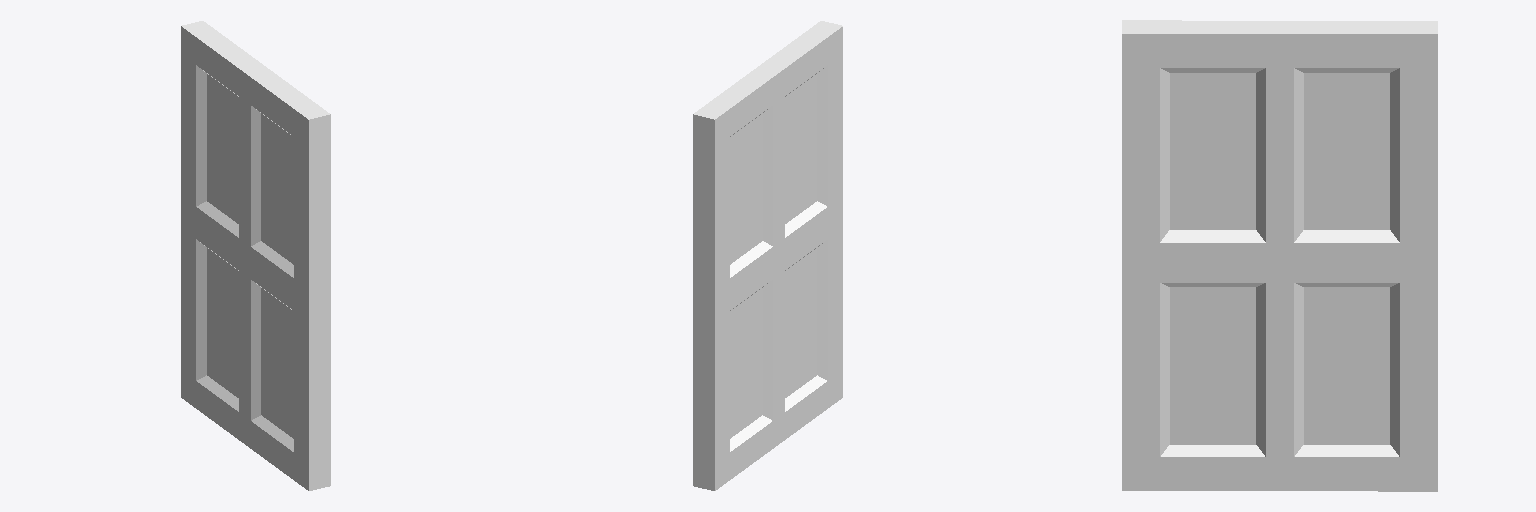
robot.urdf — walls:
<?xml version="1.0" encoding="utf-8"?>
<robot name="walls">
  <link name="base_link">
    <contact>
      <lateral_friction value="0.5"/>
      <rolling_friction value="0.0"/>
      <contact_cfm value="0.0"/>
      <contact_erp value="1.0"/>
    </contact>
    <inertial>
      <origin rpy="0 0 0" xyz="0 0 0"/>
      <mass value="0"/>
      <inertia ixx="0" ixy="0" ixz="0" iyy="0" iyz="0" izz="0"/>
    </inertial>
    <visual>
      <origin rpy="1.57 0 1.57" xyz="0 0 0"/>
      <geometry>
        <mesh filename="models/meshes[local-path]" scale="10 10 10"/>
      </geometry>
      <material name="tray_material">
        <color rgba="1 1 1 1"/>
      </material>
    </visual>
    <collision concave="yes">
      <origin rpy="1.57 0 1.57" xyz="0 0 0"/>
      <geometry>
        <mesh filename="models/meshes[local-path]" scale="10 10 10"/>
      </geometry>
    </collision>
  </link>
</robot>

--- Facts derived from the render (not from the file) ---
Views: 3 orthographic renders of the robot side by side, from view 1: azimuth 30°, elevation 25°; view 2: azimuth 150°, elevation 25°; view 3: azimuth 270°, elevation 25°.
Robot: walls — 1 links, 0 joints (none); root link base_link; default pose: all joints at 0.
Links seen in each view (by area): view 1: base_link; view 2: base_link; view 3: base_link.
Link boxes in pixels (box(x1,y1,x2,y2)): base_link: box(181, 21, 330, 490); base_link: box(693, 21, 842, 490); base_link: box(1122, 20, 1437, 491).
Bounding box of the posed robot: 0.1021 × 1 × 1.6 m (x, y, z).
1 mesh visuals loaded from 1 distinct referenced files (1 OBJ).
